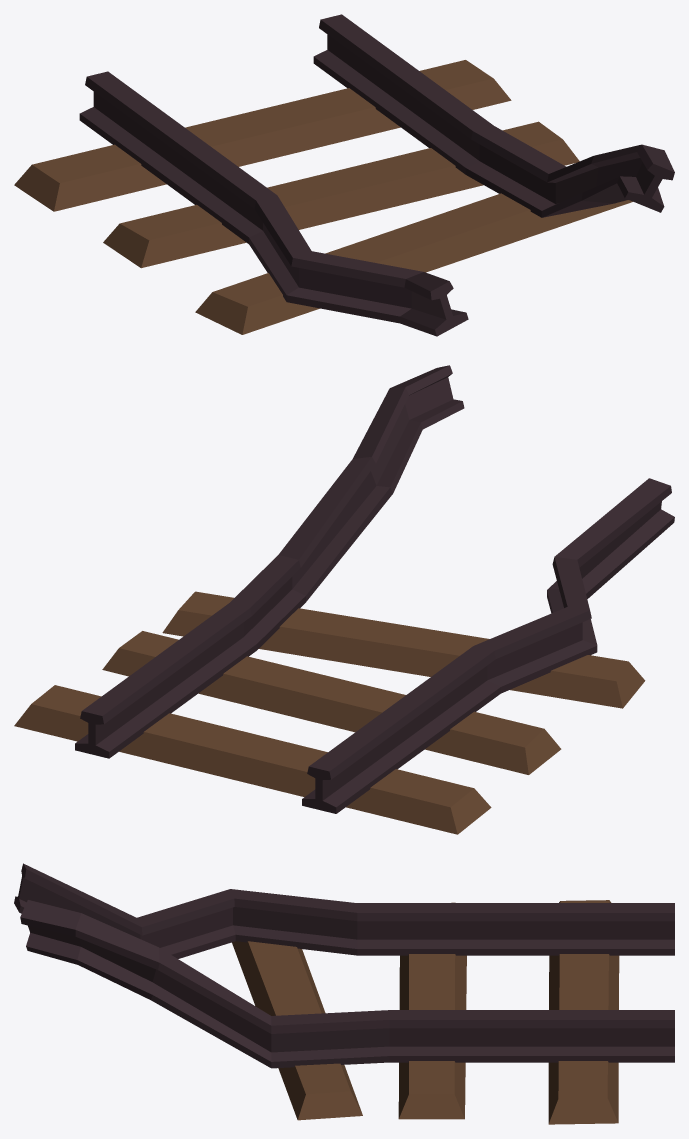
File: railway_damaged_end_02_style_01.fbx
3 views of the same model, one above another, from view 1: azimuth 30°, elevation 25°; view 2: azimuth 150°, elevation 25°; view 3: azimuth 270°, elevation 25° (orthographic). The views are drawn at different scales.
Parts seen in each view (by area): view 1: damaged_end_2; view 2: damaged_end_2; view 3: damaged_end_2.
Part boxes in pixels (<box>): damaged_end_2: <box>14,14,674,336</box>; damaged_end_2: <box>14,365,674,834</box>; damaged_end_2: <box>14,863,674,1124</box>.
Size of the model in its own units: 159 by 57.31 by 211.
